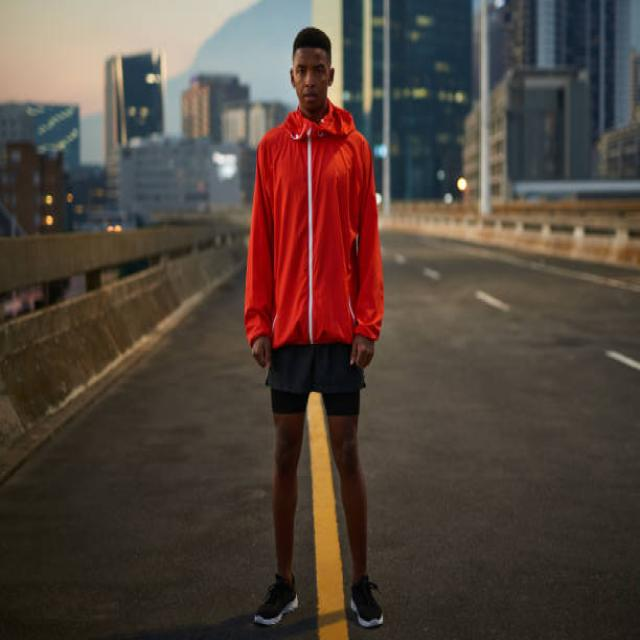Real human 2: (230, 16, 409, 640)
